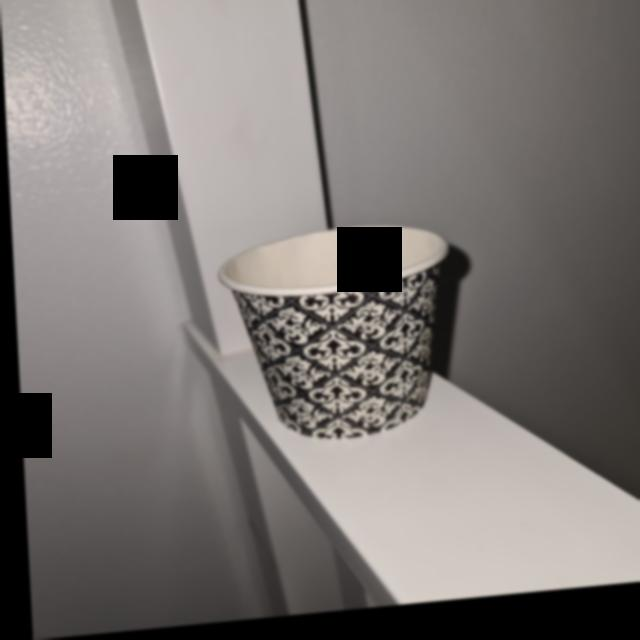cups: (215, 226, 457, 453)
